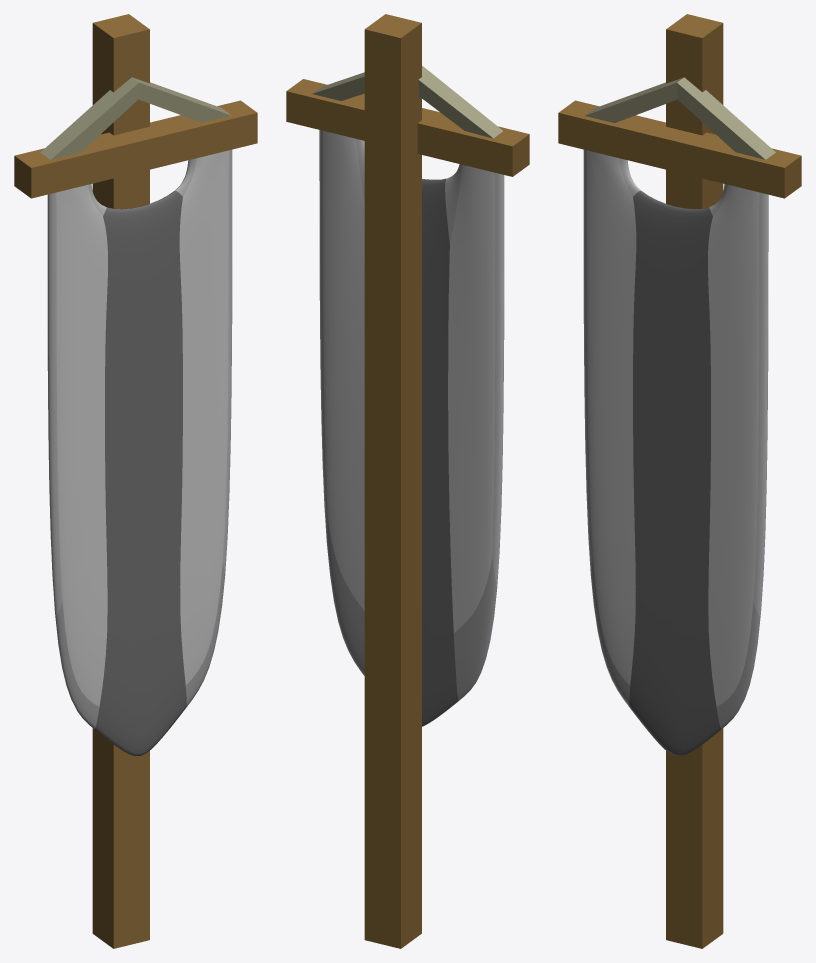
The model's file is VA NIQUER TA DARONNE.fbx.
3 renders of one model, left to right at view 1: azimuth 30°, elevation 25°; view 2: azimuth 150°, elevation 25°; view 3: azimuth 330°, elevation 25°, orthographic.
Visible parts, largest first — view 1: polySurface3, polySurface1; view 2: polySurface1, polySurface3; view 3: polySurface3, polySurface1.
Part boxes in pixels (bbox=[...]): polySurface3: bbox=[47, 149, 232, 756]; polySurface1: bbox=[14, 14, 257, 948]; polySurface1: bbox=[286, 14, 529, 948]; polySurface3: bbox=[319, 130, 504, 726]; polySurface3: bbox=[583, 149, 768, 756]; polySurface1: bbox=[558, 14, 801, 948].
Bounding box in the file's own units: 1.42 × 5.48 × 0.3669.
